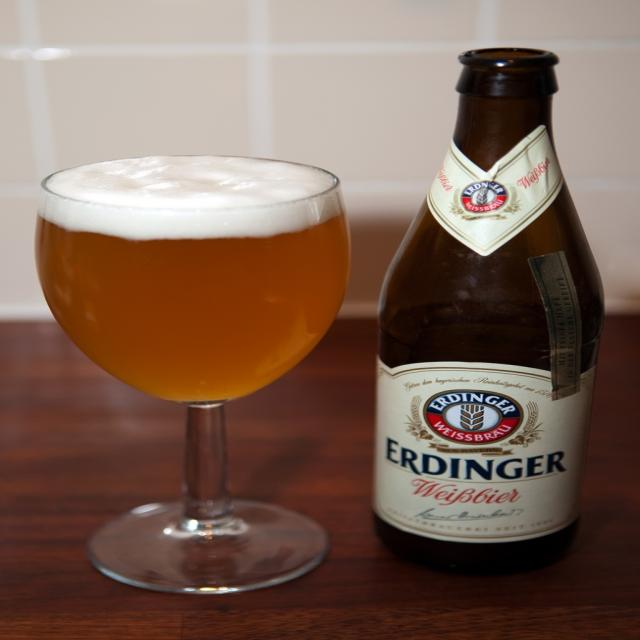erdinger: (382, 374, 578, 487), (446, 181, 523, 225)
